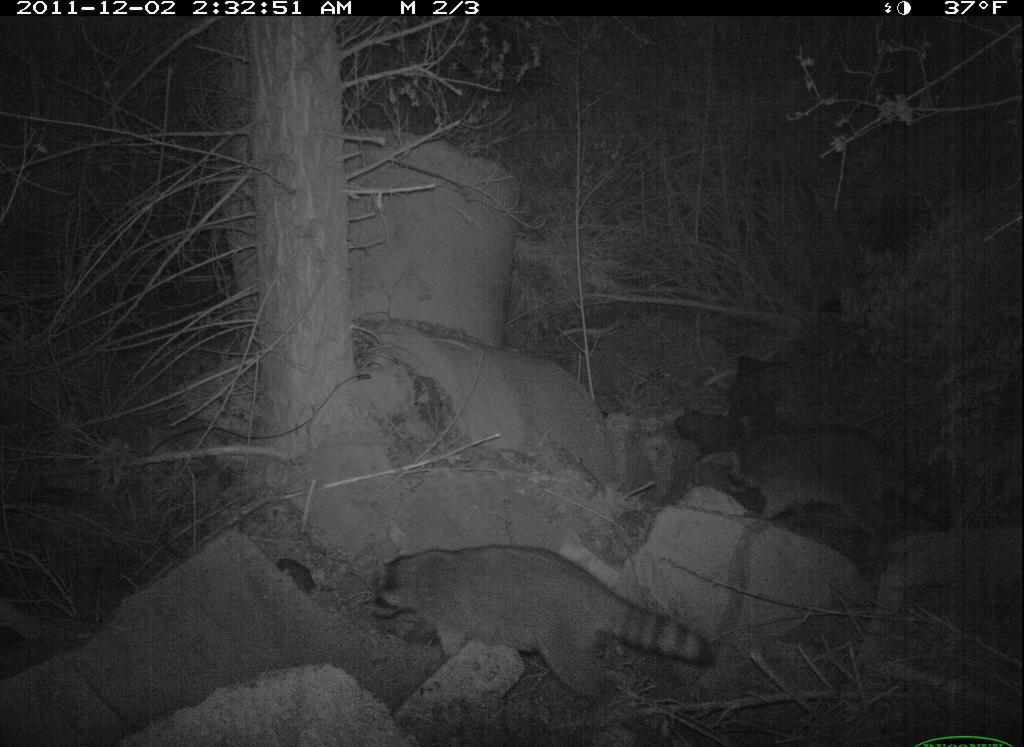raccoon: (356, 541, 725, 708), (712, 424, 964, 555)
